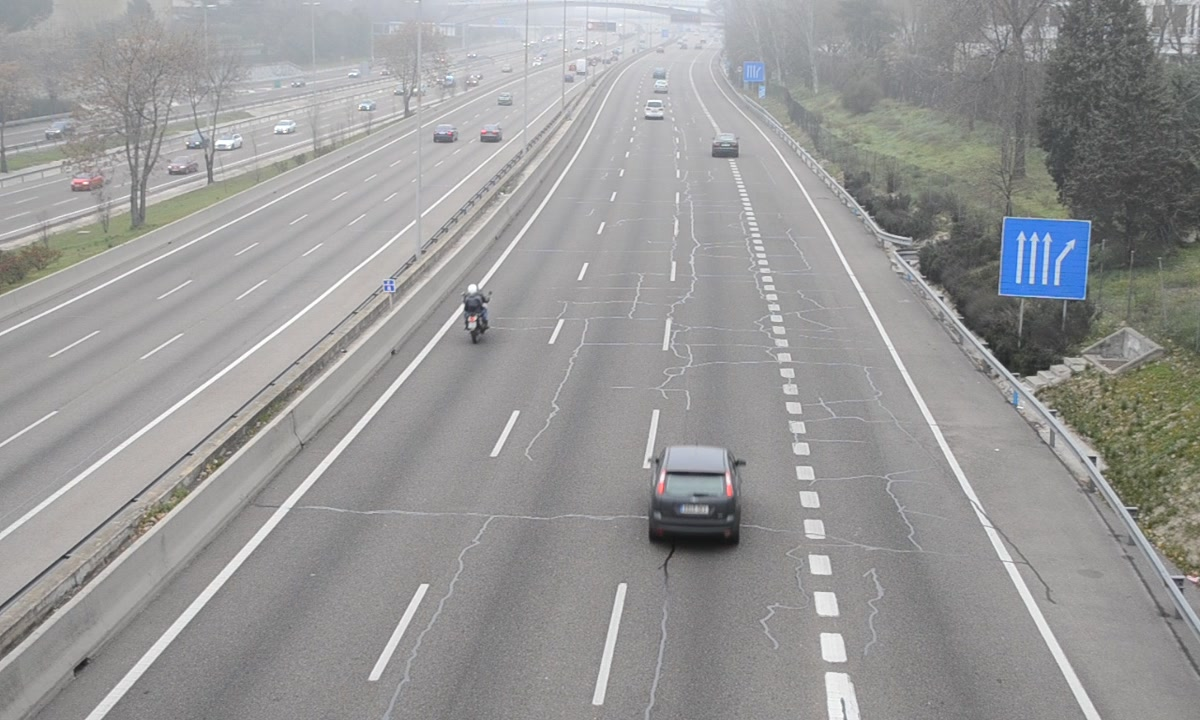car: (650, 443, 743, 539), (712, 134, 738, 157), (645, 100, 665, 121)
motorcycle: (462, 283, 490, 348)
